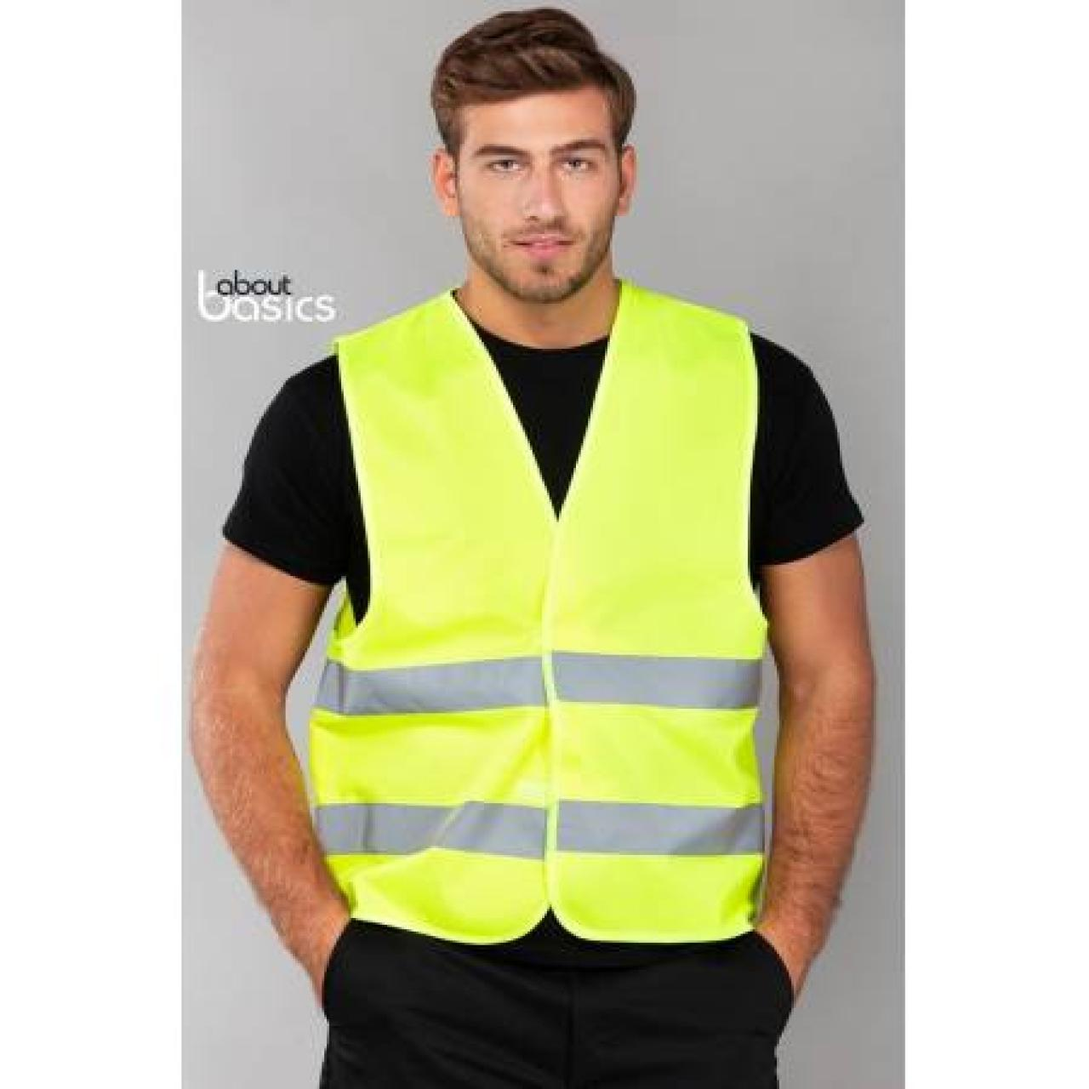Person: (194, 4, 883, 1089)
Safety_Vest: (297, 266, 799, 968)
